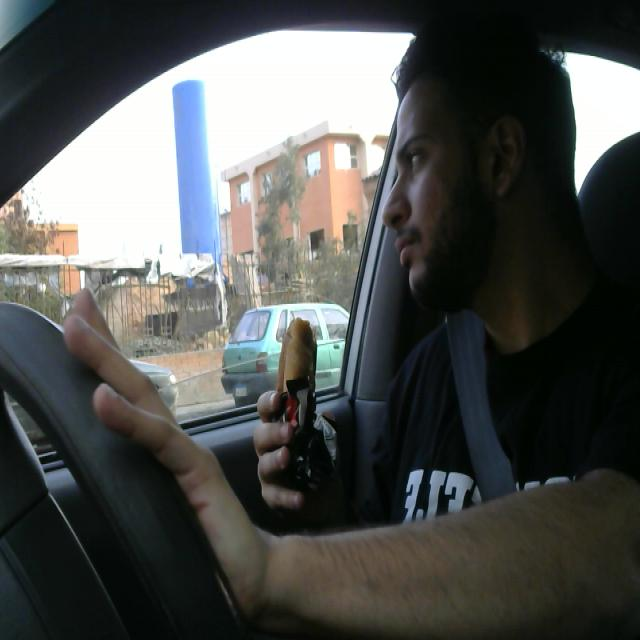eating: (274, 312, 322, 504)
